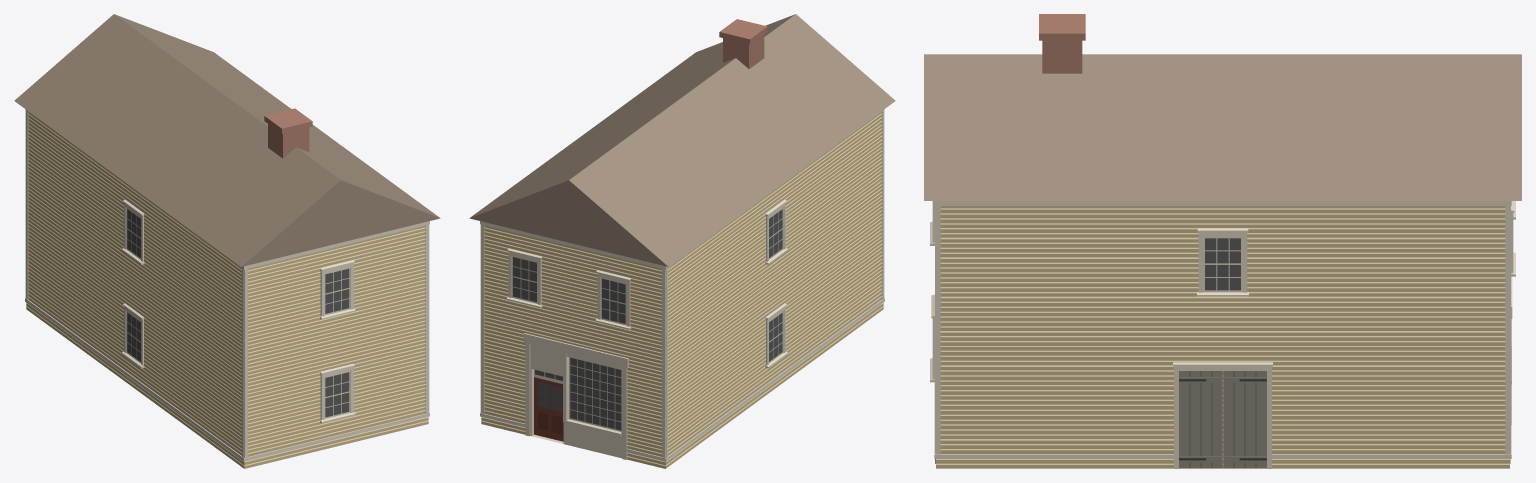
The model's file is recon_1835_core_c3_018__inferred_1835.glb.
3 views of the same model, side by side, from view 1: azimuth 30°, elevation 25°; view 2: azimuth 150°, elevation 25°; view 3: azimuth 270°, elevation 25° (orthographic). The views are drawn at different scales.
Parts seen in each view (by area): view 1: recon_1835_core_c3_018__inferred_1835; view 2: recon_1835_core_c3_018__inferred_1835; view 3: recon_1835_core_c3_018__inferred_1835.
Part boxes in pixels (x1,y1,x2,y2): recon_1835_core_c3_018__inferred_1835: (14,14,440,468); recon_1835_core_c3_018__inferred_1835: (469,14,895,468); recon_1835_core_c3_018__inferred_1835: (924,14,1521,468).
Bounding box in the file's own units: 6.39 × 8.96 × 12.59.
